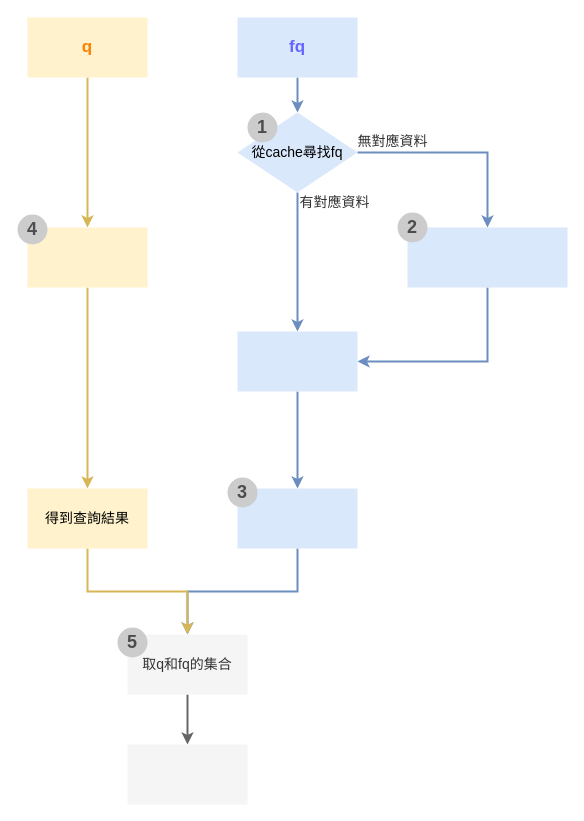
The diagram is 584 pixels wide and 821 high, and some of its shapes have lost their labels. Here are the shapes that lost their labels. From the top down, the box of each, then its label:
(27, 227, 147, 287): 查詢q
(407, 227, 567, 287): 查詢fq, 並將結果存入cache
(237, 331, 357, 391): 回傳DocSet
(237, 488, 357, 548): 取DocSet的集合
(127, 744, 247, 804): 回傳最終查詢結果
